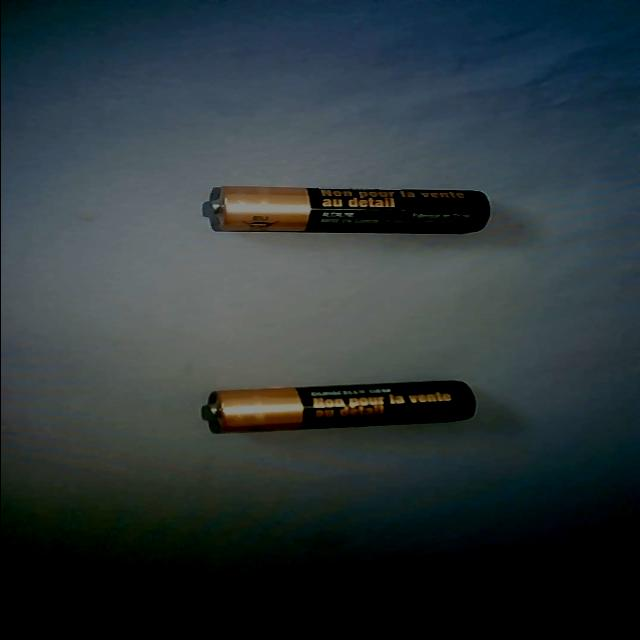AA: (203, 380, 477, 434), (204, 185, 491, 235)
